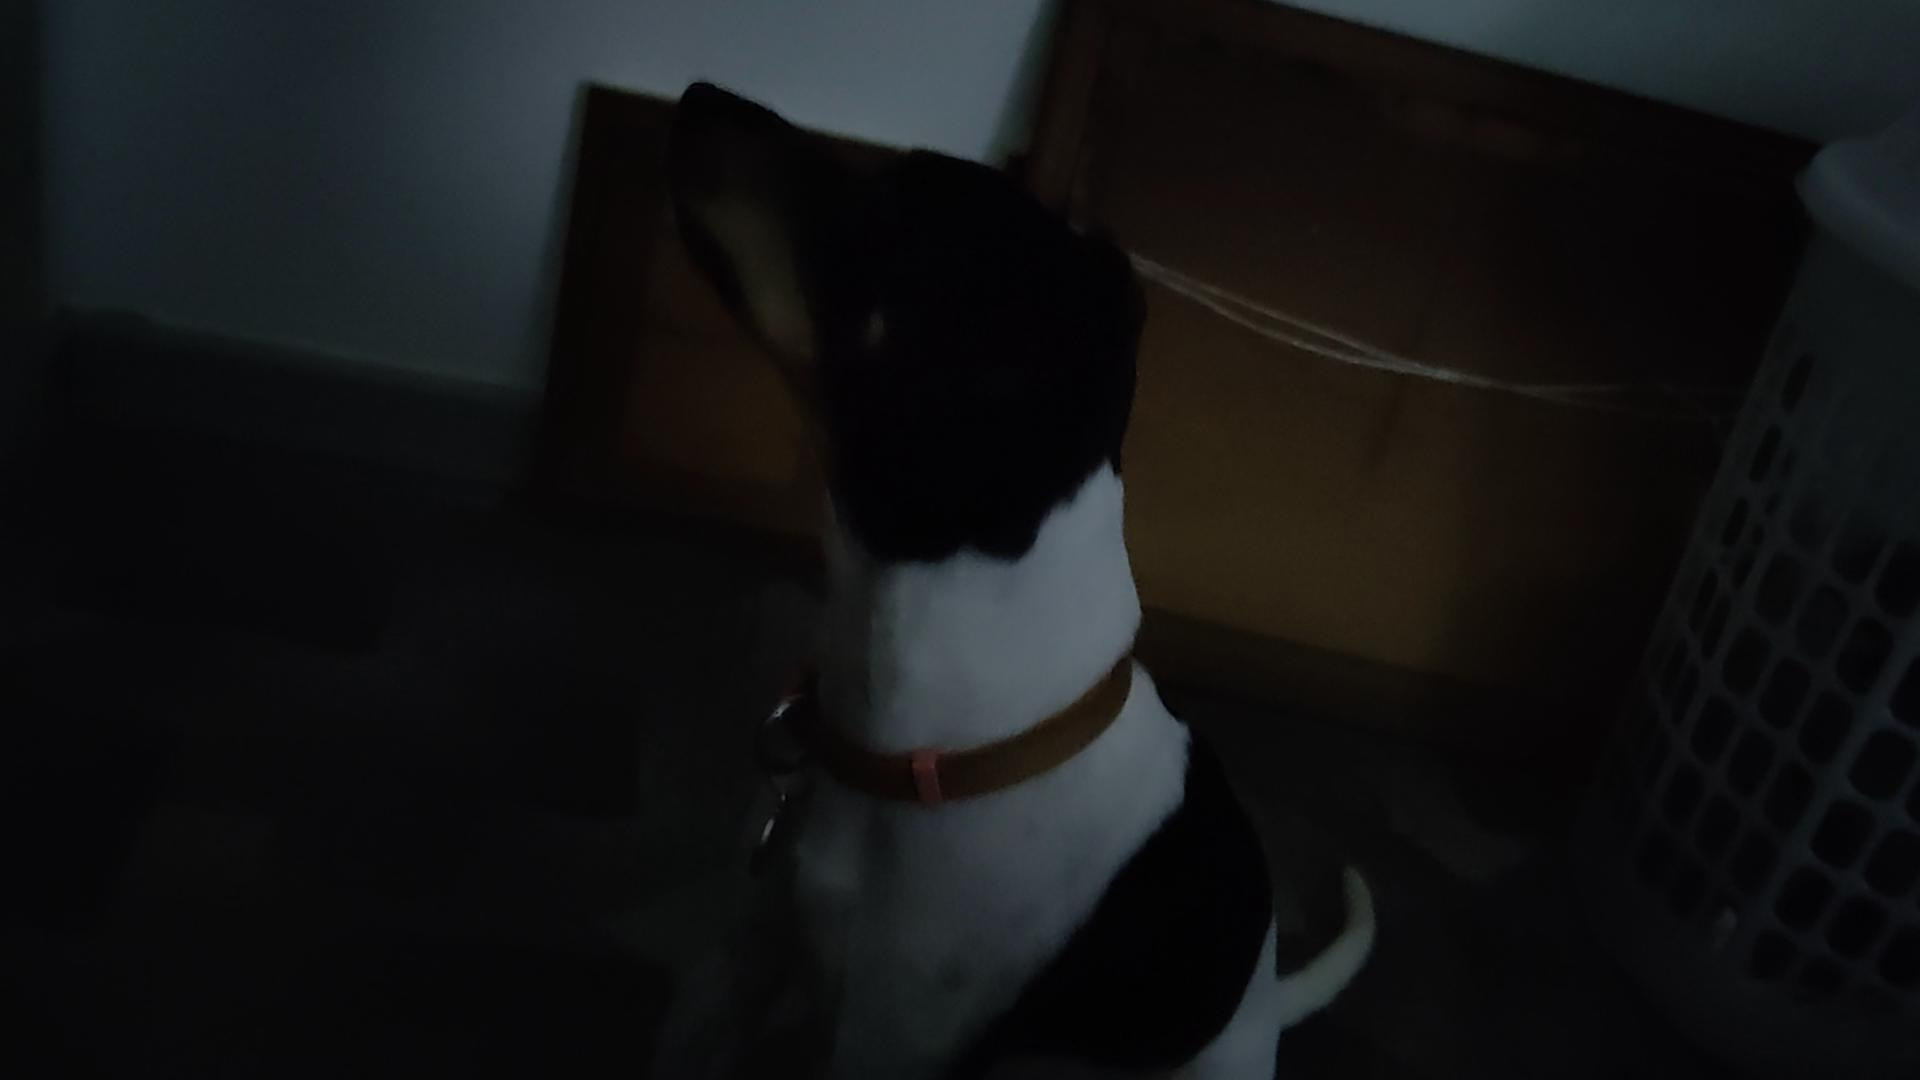Dog: (607, 46, 1399, 1079)
